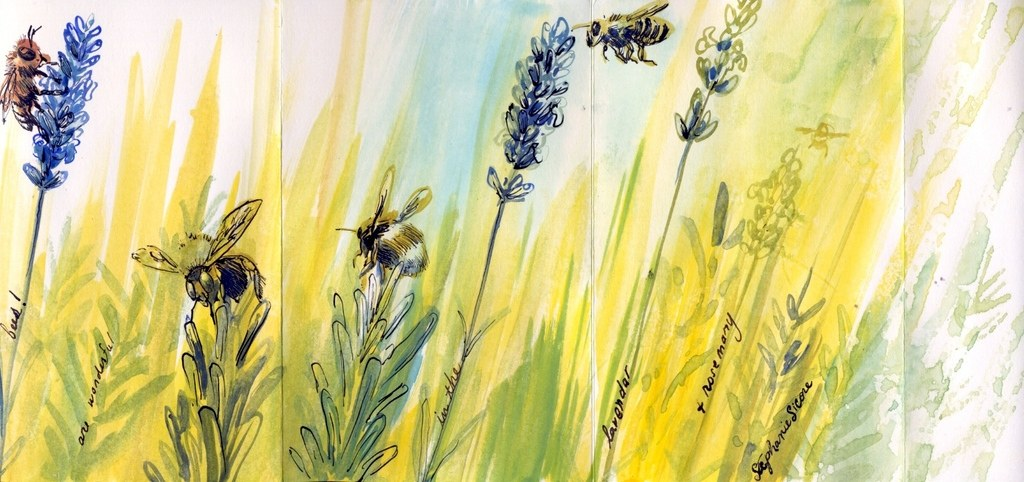bee: (140, 197, 268, 326), (334, 148, 429, 290), (570, 0, 689, 64), (0, 13, 52, 136)
insect: (482, 7, 578, 211), (20, 7, 104, 194), (676, 0, 767, 145)
